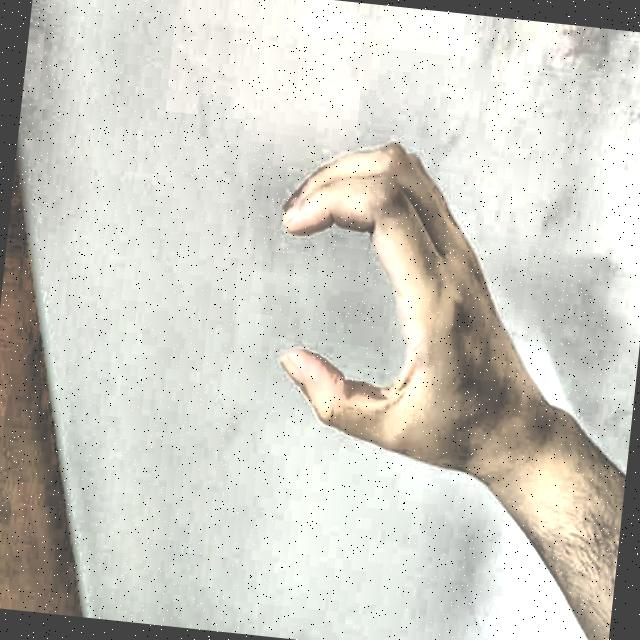A: (228, 86, 522, 502)
